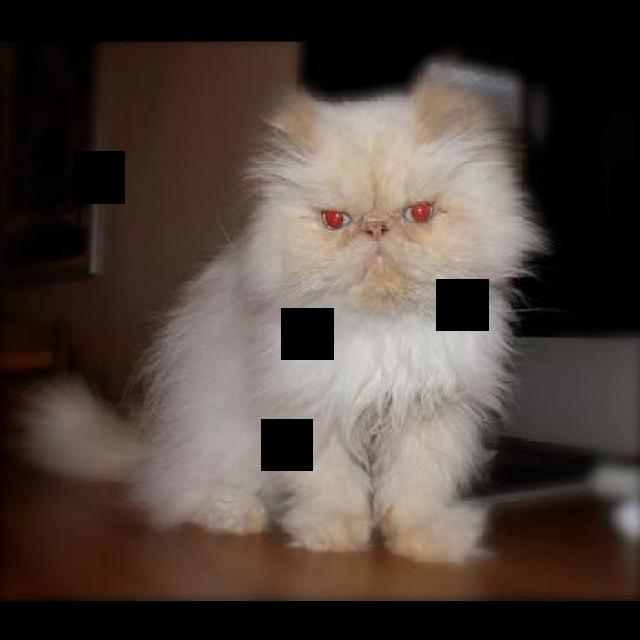unauthorized: (8, 60, 548, 565)
